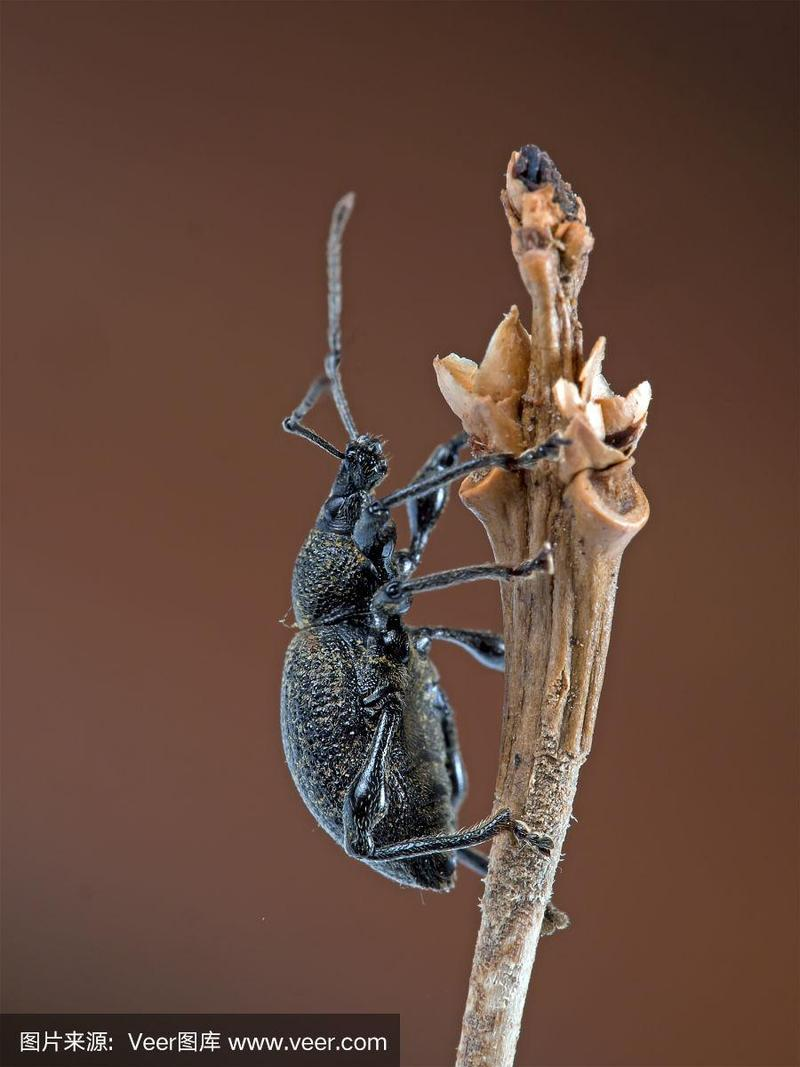Curculionidae: (275, 190, 573, 938)
